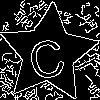C: (23, 29, 69, 81)
